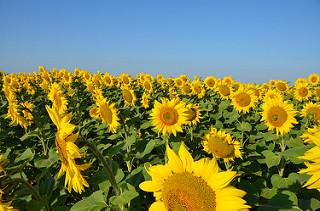sunflower: (140, 145, 251, 211), (46, 107, 88, 192), (148, 96, 187, 137), (201, 126, 242, 161), (259, 100, 296, 135), (95, 95, 118, 133), (48, 82, 68, 114), (231, 88, 256, 112), (181, 103, 201, 125), (301, 102, 320, 123), (214, 80, 233, 101), (294, 82, 314, 101), (120, 86, 136, 108), (192, 82, 207, 97), (203, 76, 217, 89), (180, 82, 192, 95), (102, 73, 113, 87), (121, 73, 132, 87), (142, 79, 152, 92)
